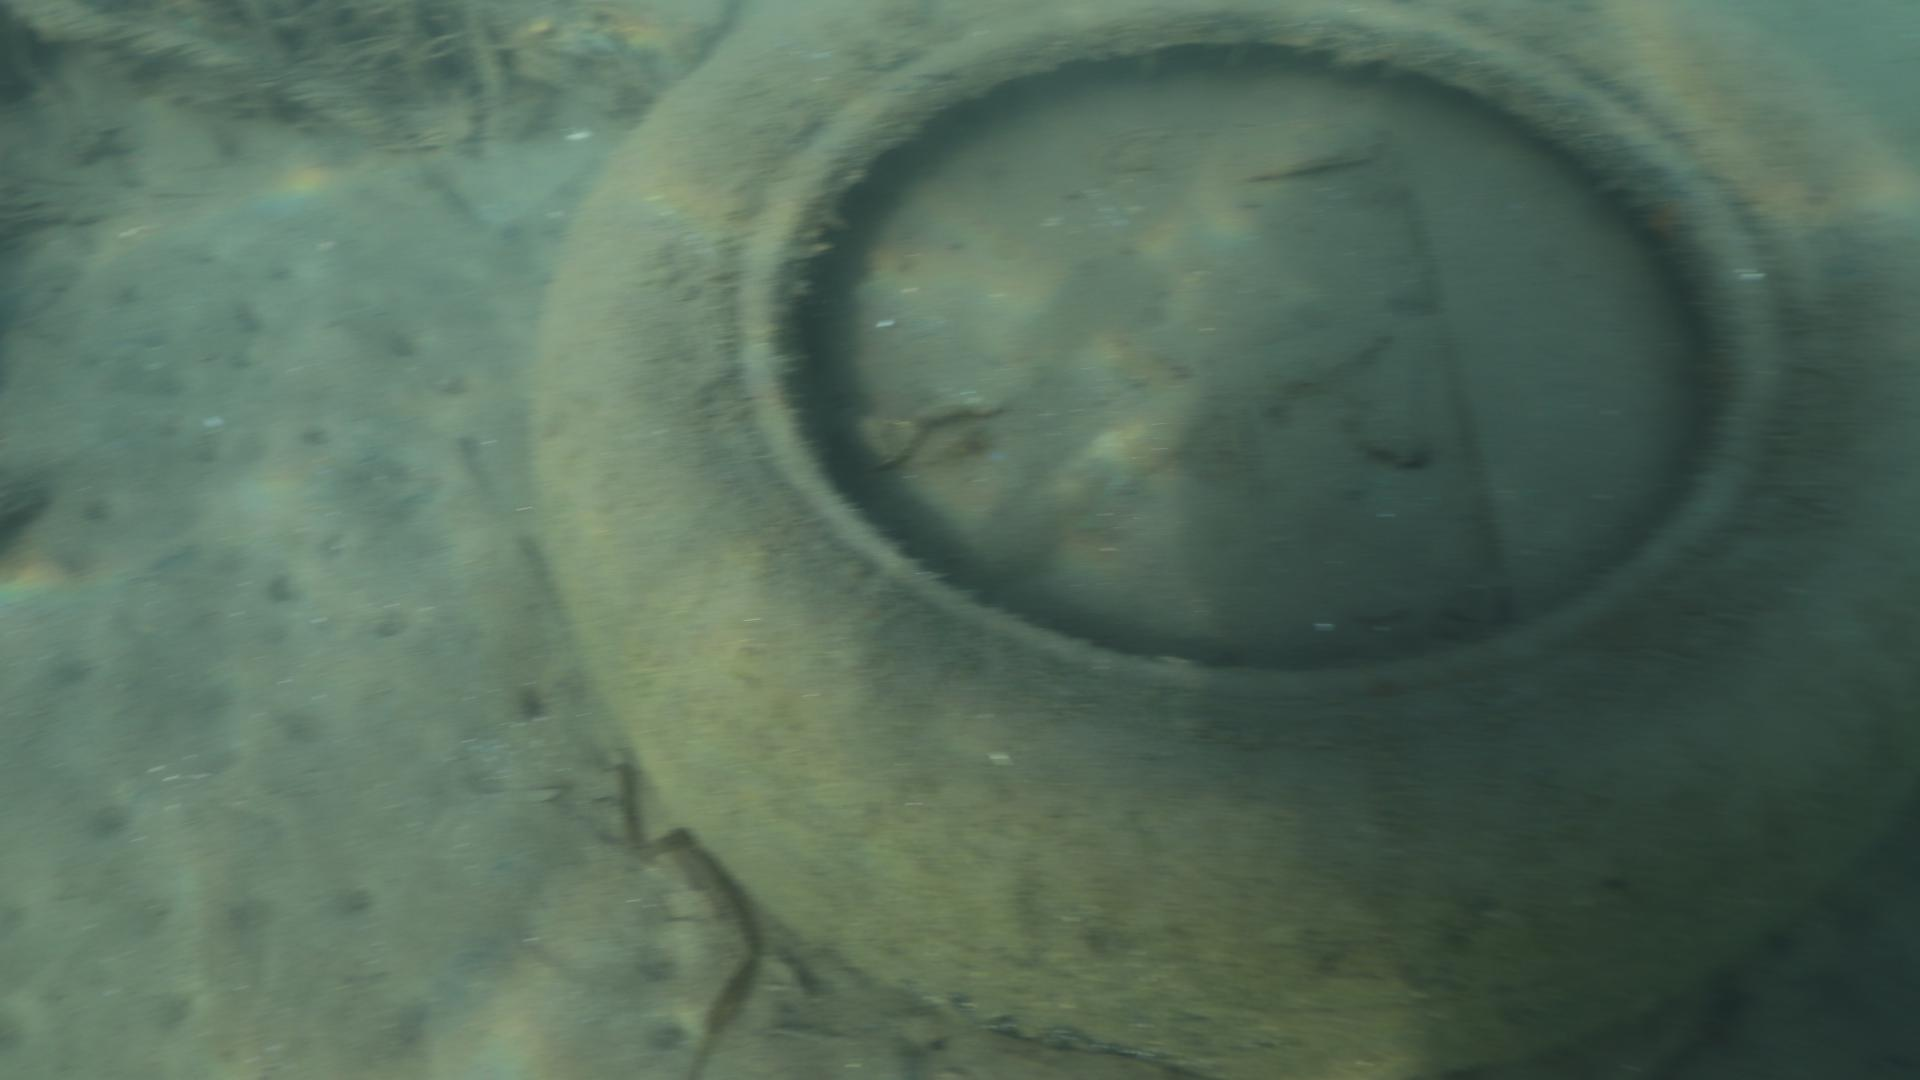tire: (535, 0, 1920, 1080)
